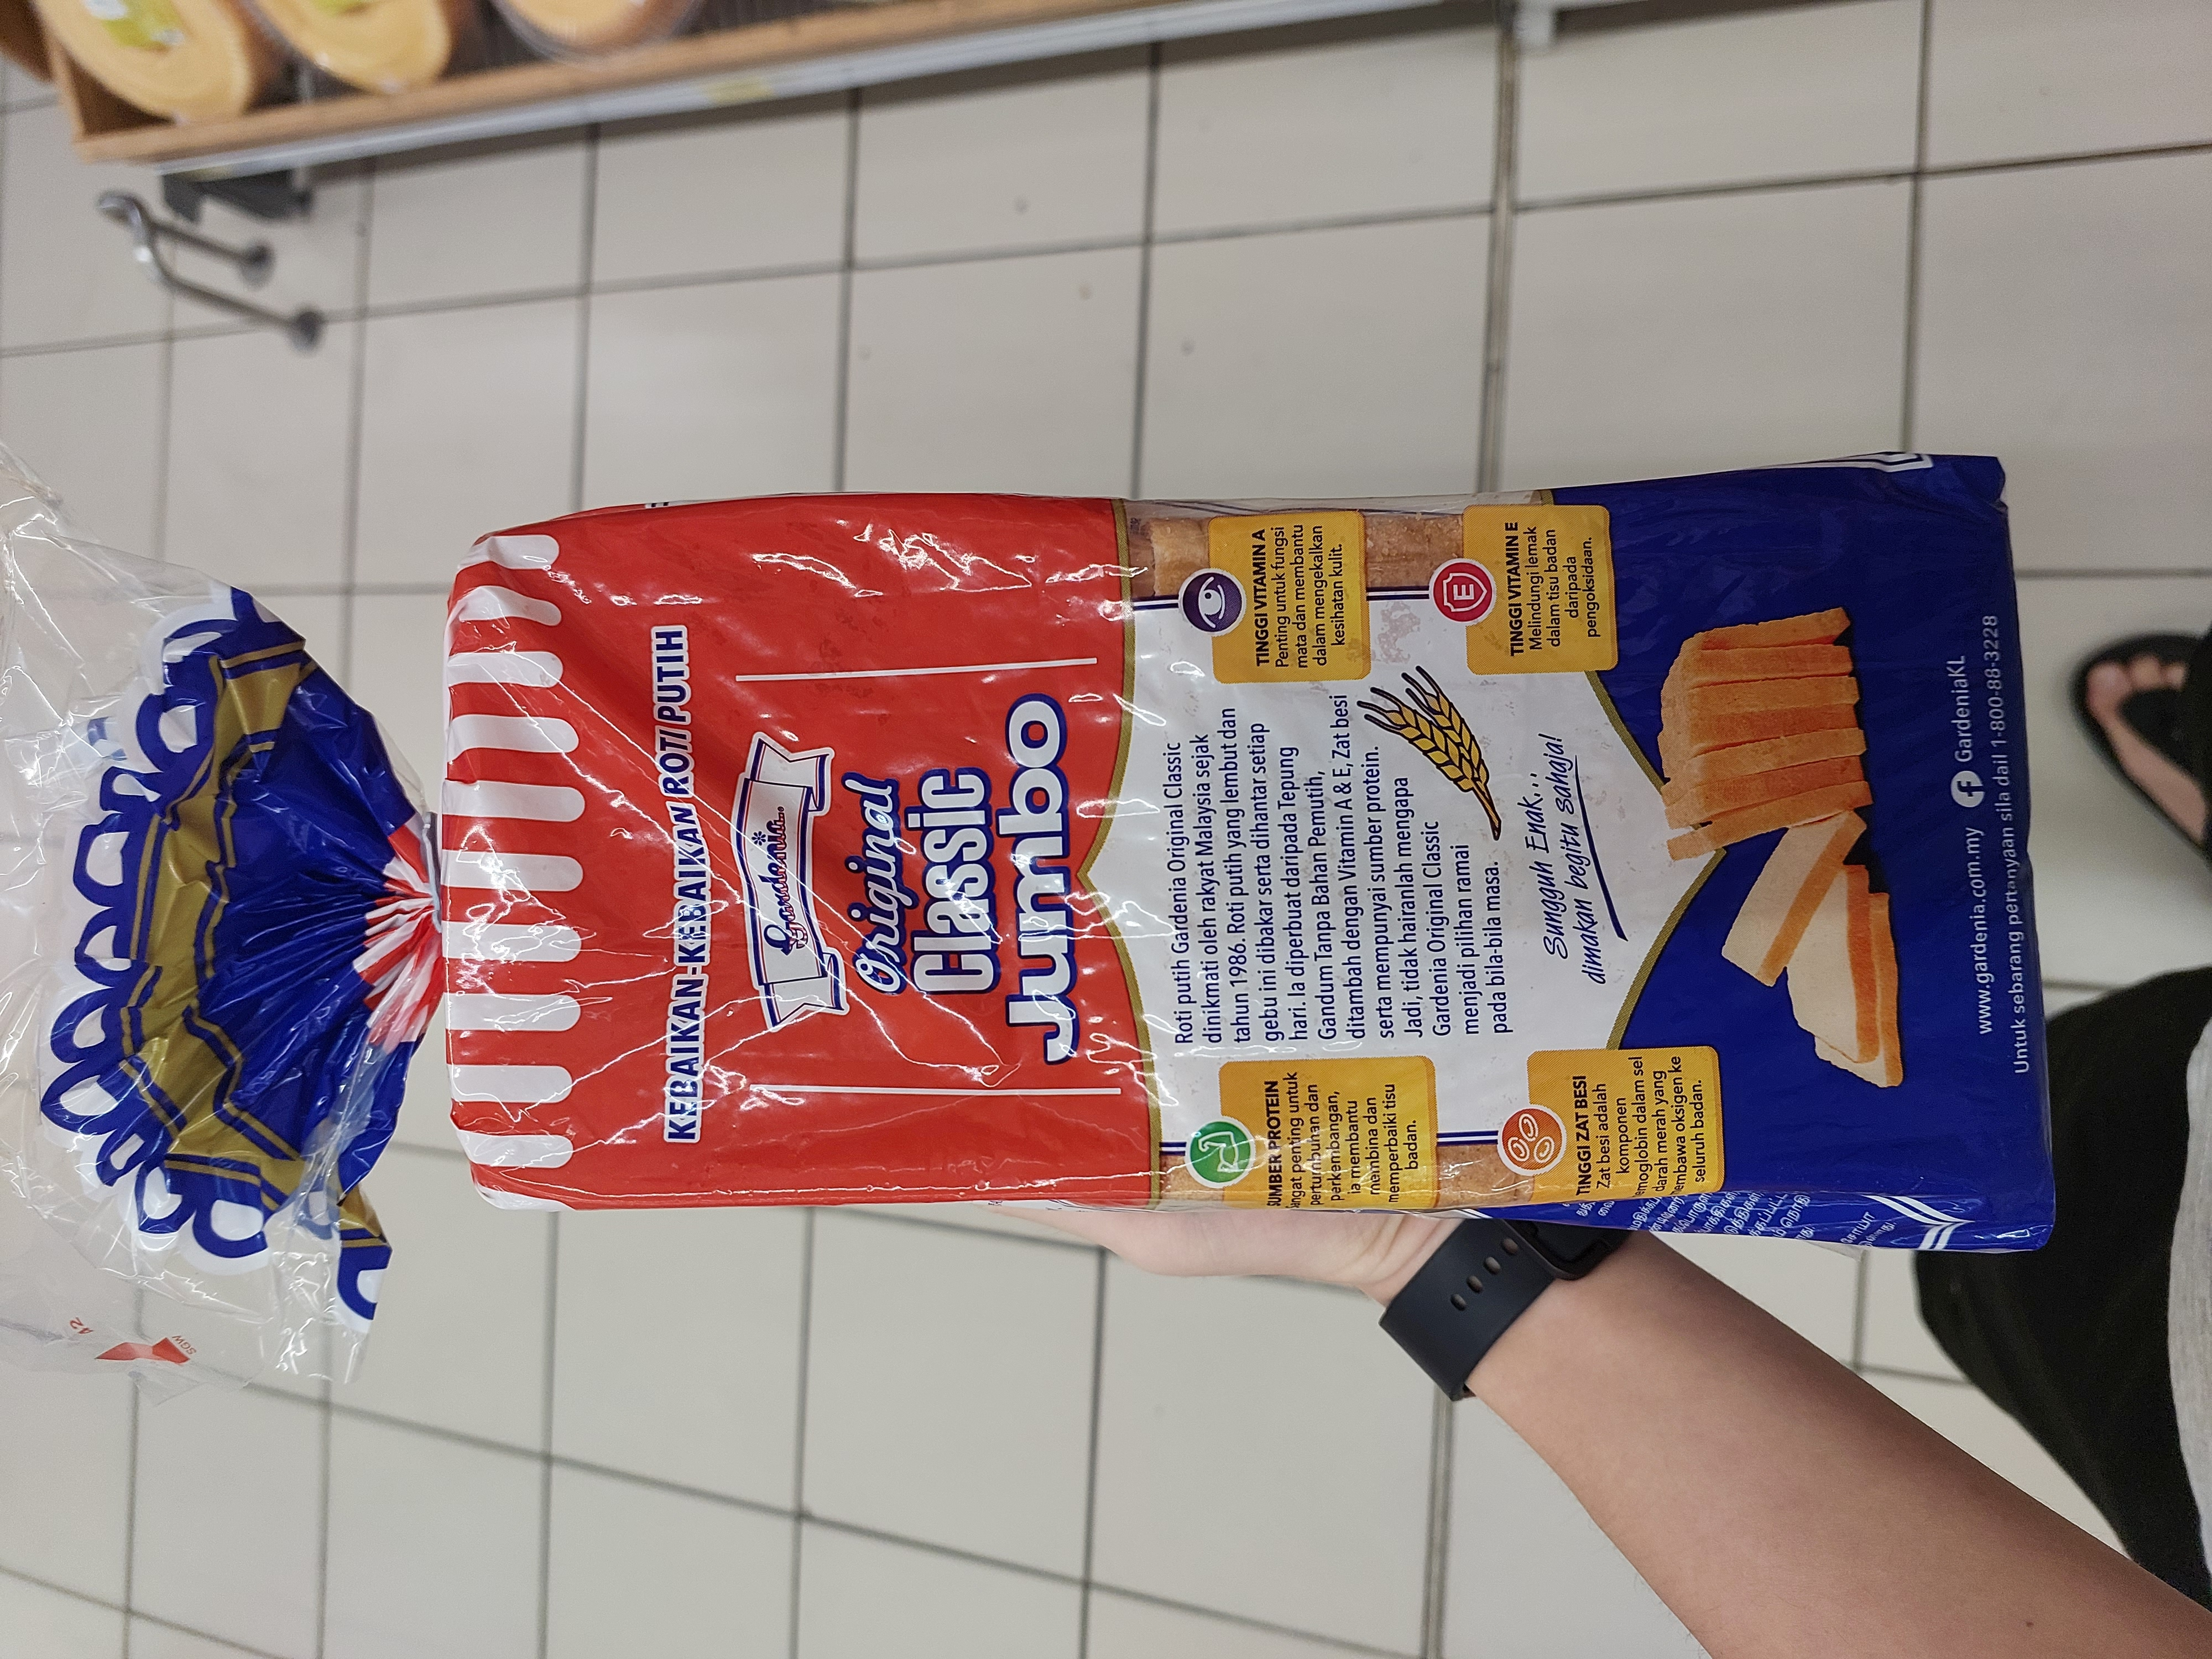bread: (61, 450, 2057, 1319)
